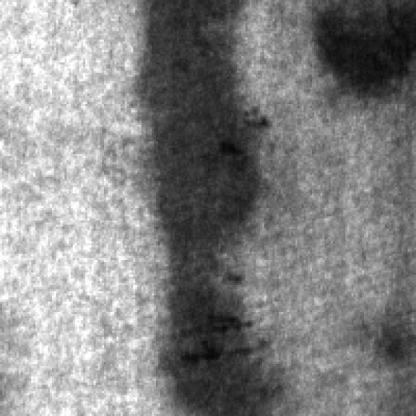patches: (131, 0, 262, 279), (150, 260, 278, 414), (306, 0, 414, 94)
